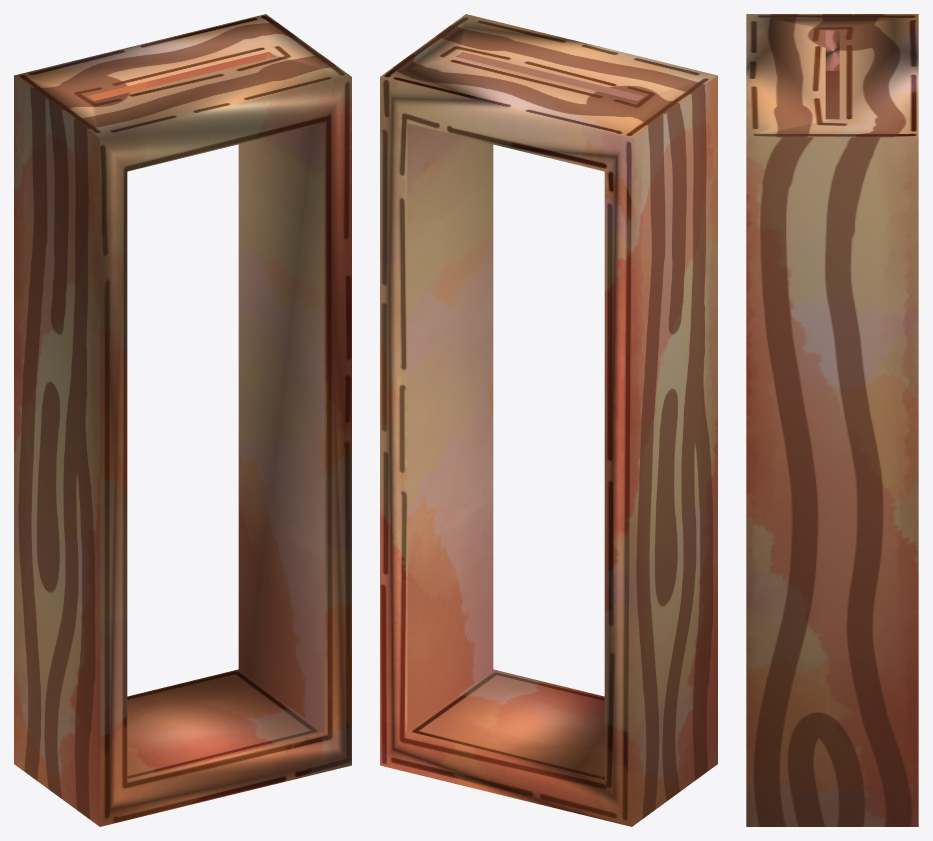
Rendered from knife holder.fbx.
3 views of the same model, side by side, from view 1: azimuth 30°, elevation 25°; view 2: azimuth 150°, elevation 25°; view 3: azimuth 270°, elevation 25° (orthographic).
Parts seen in each view (by area): view 1: knife_holder; view 2: knife_holder; view 3: knife_holder.
Boxes of the visible parts, x1,y1,x2,y2 form: knife_holder: (14,14,351,826); knife_holder: (380,14,717,826); knife_holder: (746,14,918,826).
Bounding box in the file's own units: 12.49 × 32.62 × 7.38.
